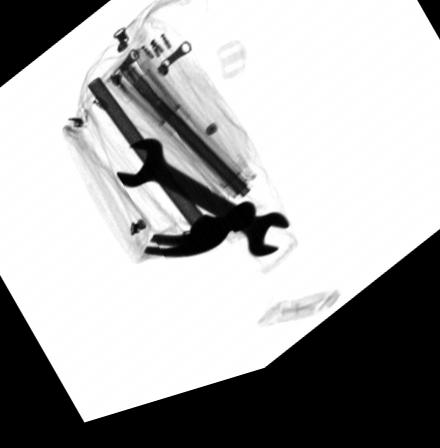Hammer: (83, 79, 254, 268)
Wrench: (112, 147, 291, 274)
